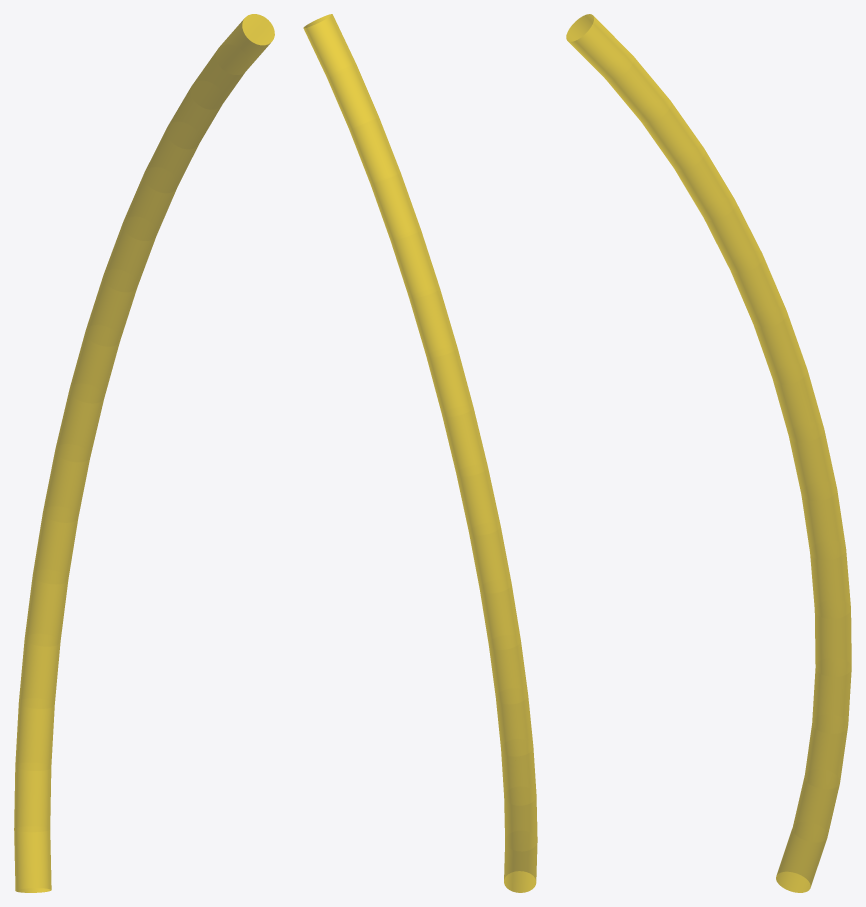
The model's file is Event_75125125_track_65.fbx.
3 views of the same model, side by side, from view 1: azimuth 30°, elevation 25°; view 2: azimuth 210°, elevation 25°; view 3: azimuth 270°, elevation 25° (orthographic). The views are drawn at different scales.
Visible parts, largest first — view 1: Model; view 2: Model; view 3: Model.
Part boxes in pixels (x1,y1,x2,y2): Model: (14, 14, 274, 892); Model: (303, 14, 537, 892); Model: (566, 14, 851, 892).
Bounding box in the file's own units: 0.1911 × 1.13 × 0.3146.
